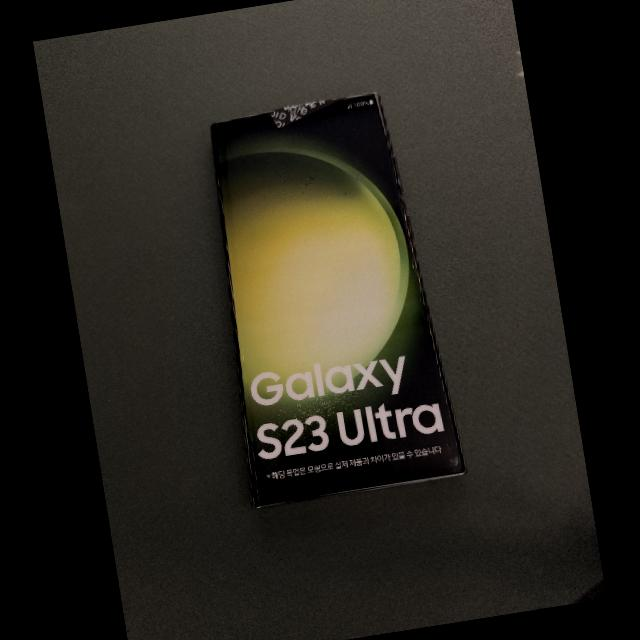phone: (211, 93, 466, 507)
sticker: (263, 97, 347, 129)
